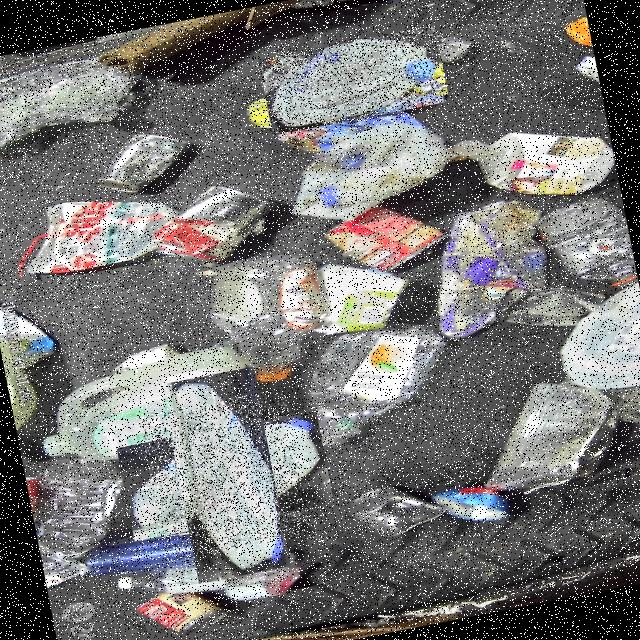milk-jug: (137, 388, 312, 563), (257, 25, 449, 136)
